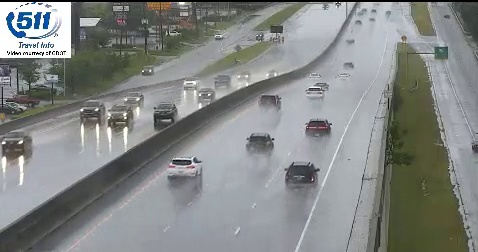car: (284, 162, 318, 188), (168, 156, 203, 180), (246, 132, 273, 152), (305, 119, 331, 137), (258, 93, 281, 111), (305, 86, 324, 100)
